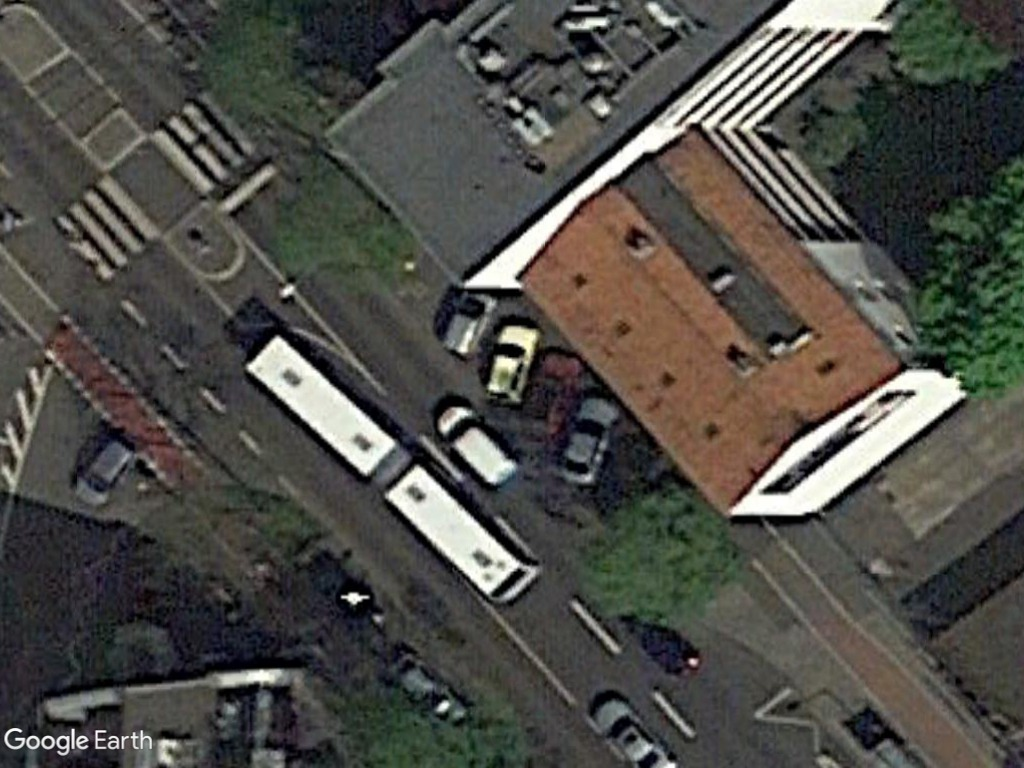bus: (242, 325, 403, 484), (378, 457, 536, 608)
car: (555, 392, 623, 491), (477, 320, 545, 410)
van: (432, 402, 526, 488)
